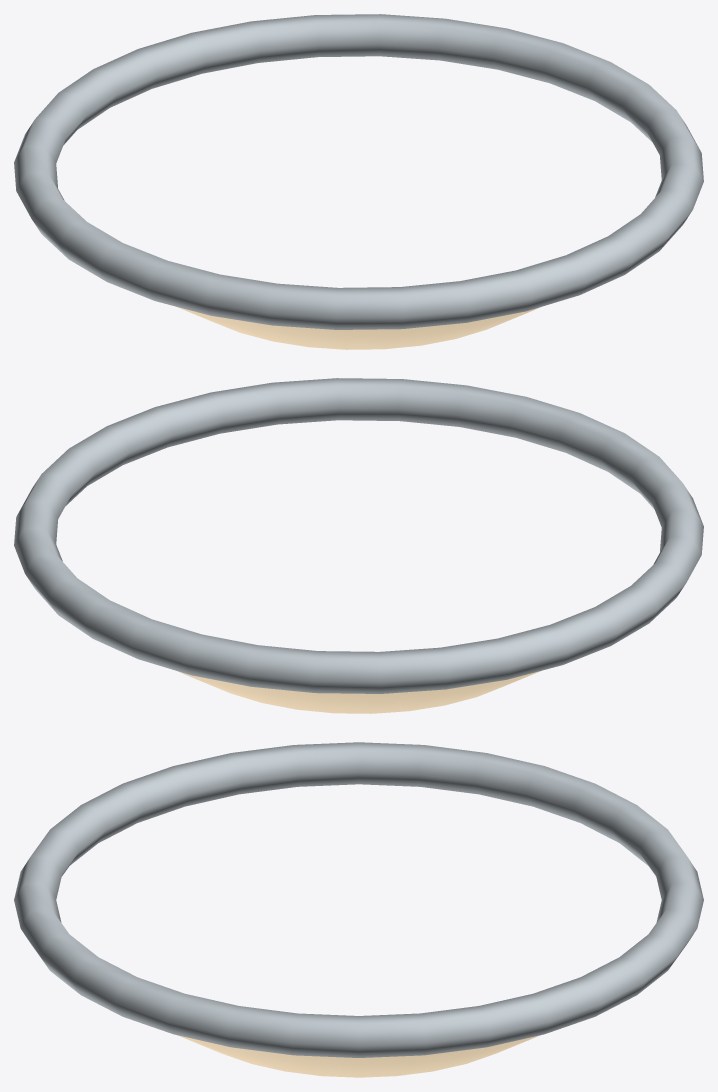
Rendered from SM_CeilingLight.glb.
3 views of the same model, one above another, from view 1: azimuth 30°, elevation 25°; view 2: azimuth 150°, elevation 25°; view 3: azimuth 270°, elevation 25° (orthographic).
Visible parts, largest first — view 1: SM_CeilingLight; view 2: SM_CeilingLight; view 3: SM_CeilingLight.
Part boxes in pixels (<box>): SM_CeilingLight: <box>14,14,703,349</box>; SM_CeilingLight: <box>14,378,703,713</box>; SM_CeilingLight: <box>14,742,703,1077</box>.
Bounding box in the file's own units: 0.392 × 0.0914 × 0.392.
2 materials, 2 textured.
